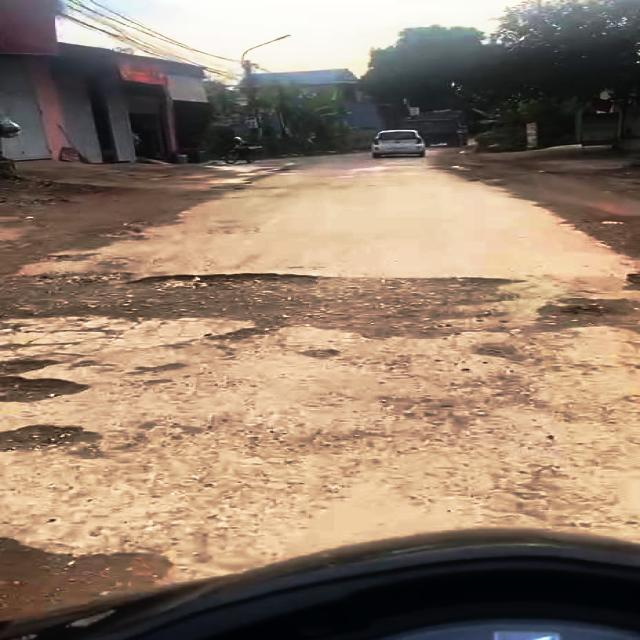pothole: (0, 274, 350, 325), (0, 530, 183, 623), (0, 357, 106, 404), (529, 293, 640, 335), (0, 416, 97, 461)
